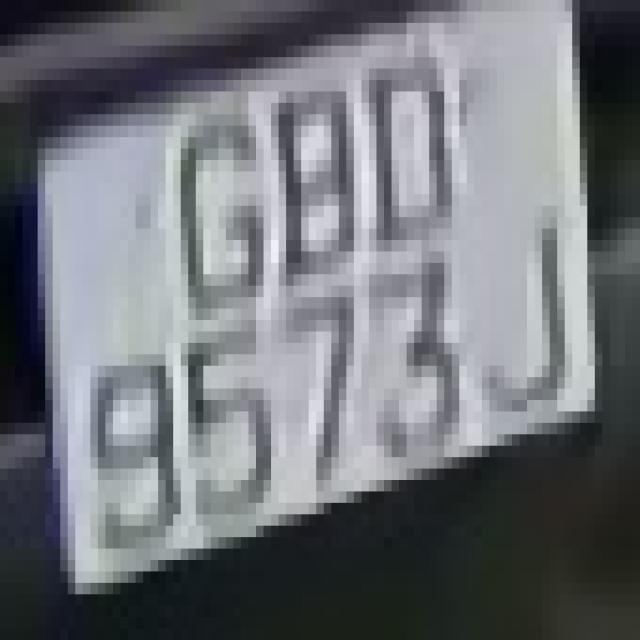3: (354, 240, 459, 503)
5: (165, 308, 294, 548)
7: (264, 274, 376, 480)
9: (68, 354, 188, 549)
B: (248, 46, 362, 320)
D: (324, 35, 452, 252)
G: (158, 91, 256, 332)
J: (467, 195, 572, 412)
